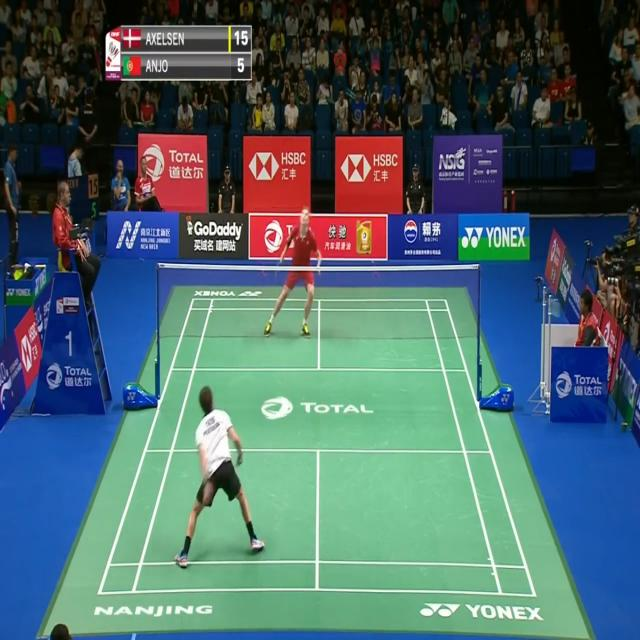Player1: (173, 372, 269, 578)
Player2: (257, 201, 329, 349)
